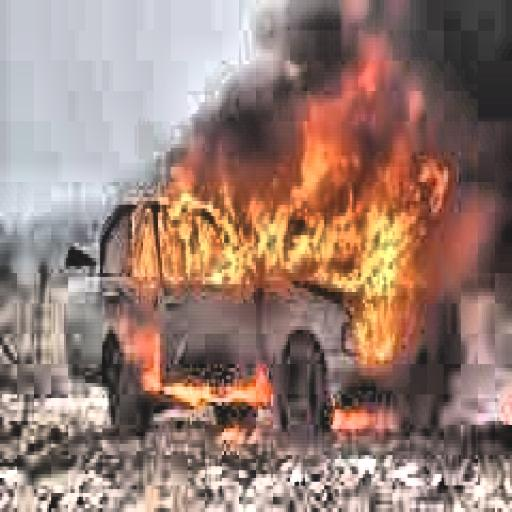fire: (138, 64, 440, 372)
